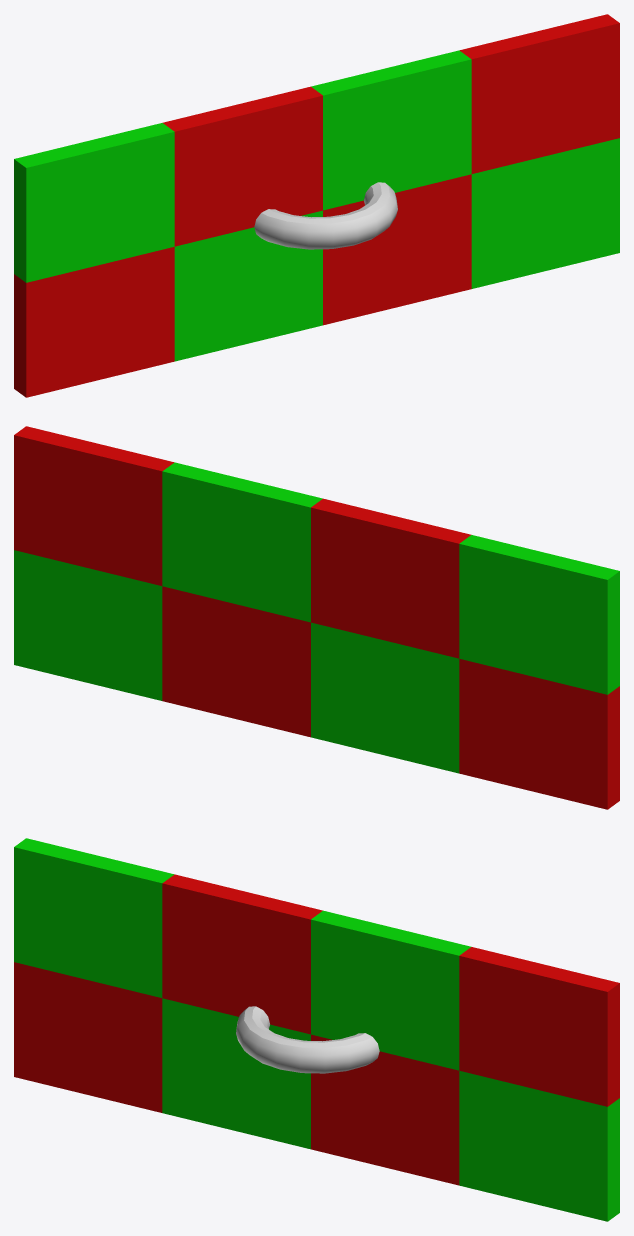
Rendered from pins.fbx.
3 renders of one model, top to bottom at view 1: azimuth 30°, elevation 25°; view 2: azimuth 150°, elevation 25°; view 3: azimuth 330°, elevation 25°, orthographic.
Visible parts, largest first — view 1: Cube, Torus; view 2: Cube; view 3: Cube, Torus.
Boxes of the visible parts, left/top/right/bottom form: Cube: left=14, top=14, right=619, bottom=397; Torus: left=254, top=182, right=397, bottom=249; Cube: left=14, top=426, right=619, bottom=809; Cube: left=14, top=838, right=619, bottom=1221; Torus: left=236, top=1006, right=379, bottom=1073.
Size of the model in its own units: 36.2 by 13.39 by 4.95.
